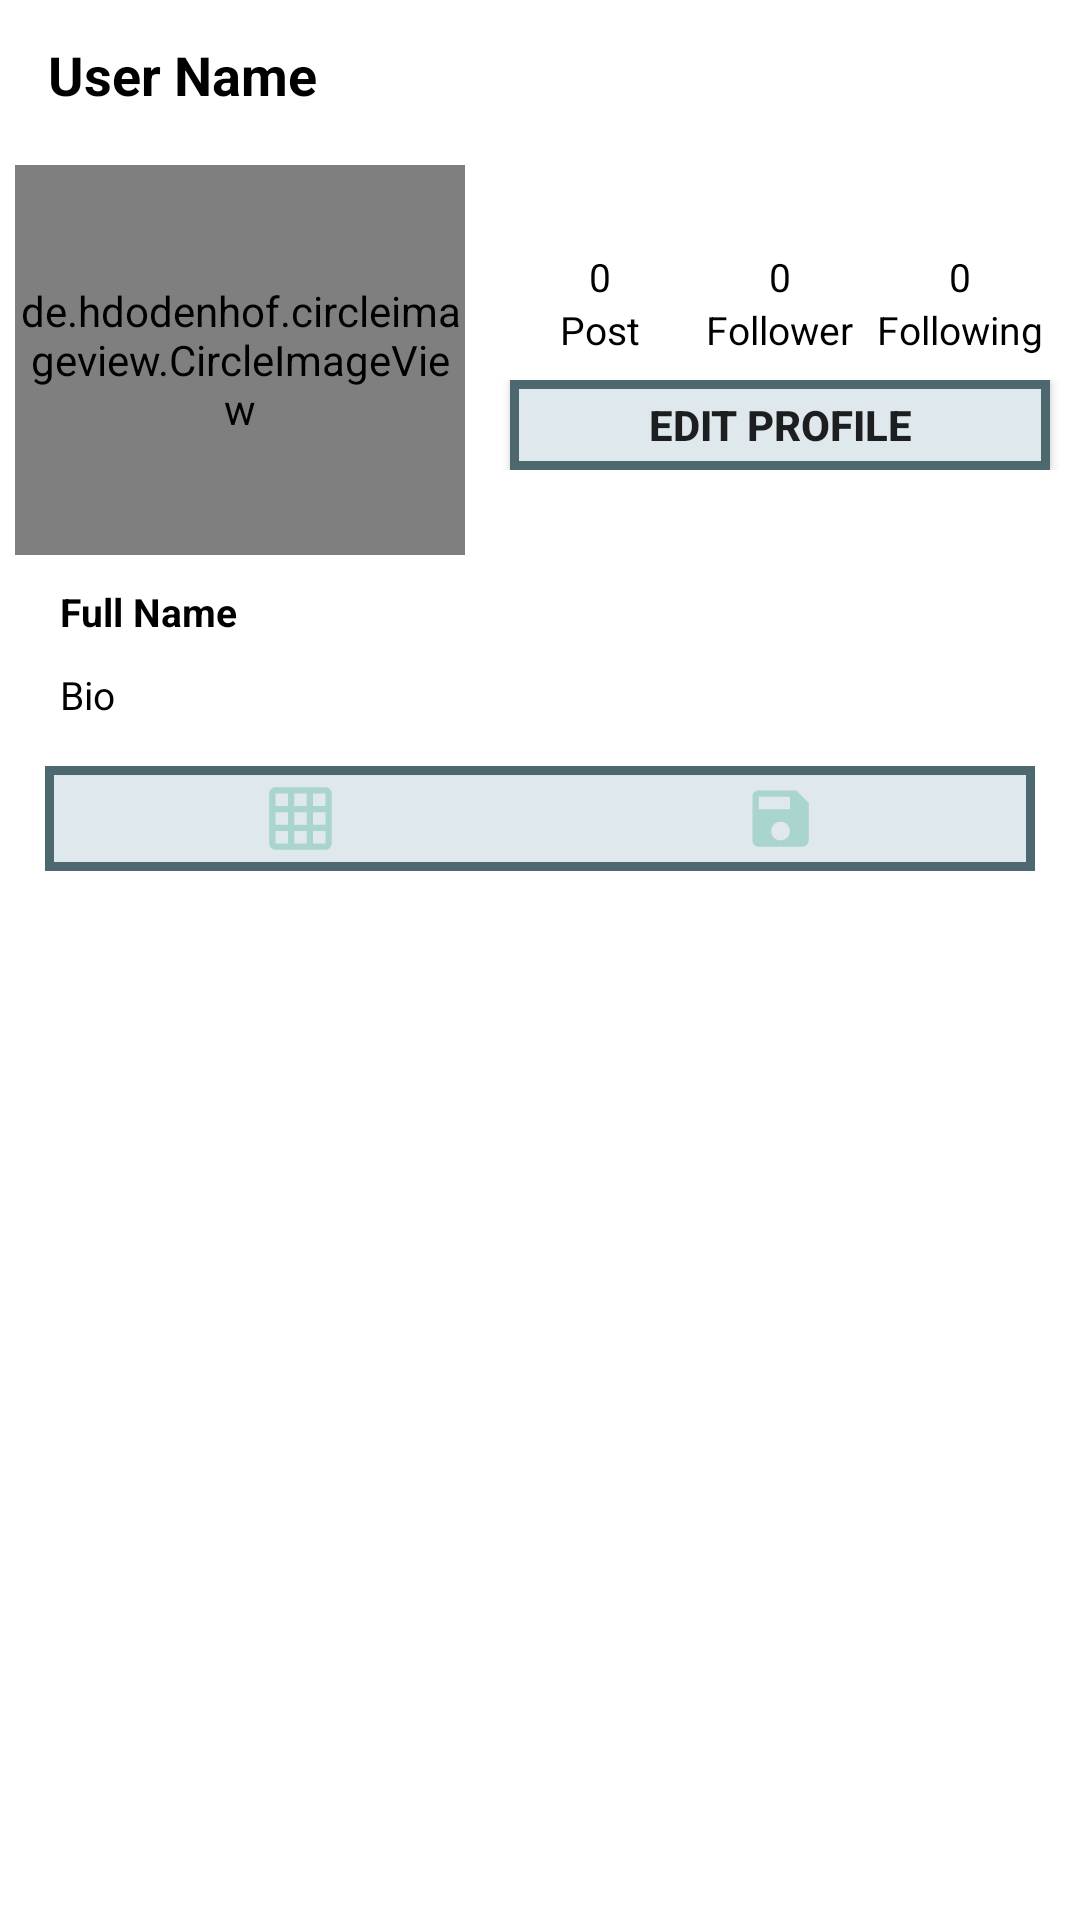

Where to tap for icons on this 1080w x 1920h app screen, as [x,y]:
grid on: [300,818]
save: [780,818]
